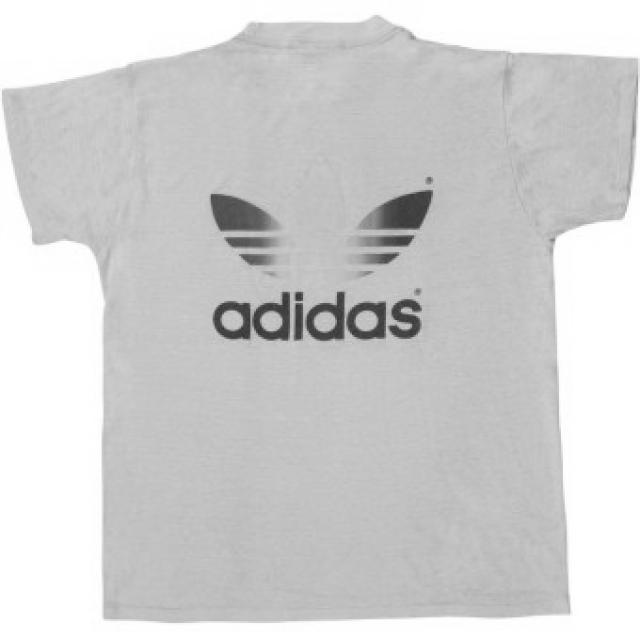Adidas: (200, 152, 439, 290)
